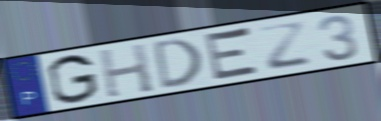3: (317, 13, 360, 62)
D: (151, 36, 204, 92)
E: (203, 25, 263, 83)
G: (46, 53, 101, 106)
H: (96, 41, 156, 100)
Z: (256, 21, 314, 73)
